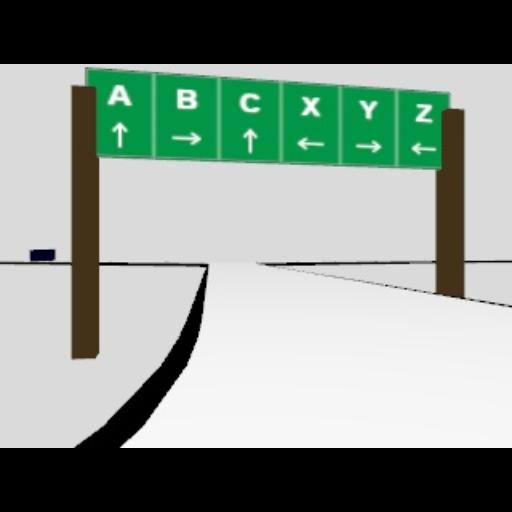A: (105, 83, 131, 105)
B: (176, 88, 196, 108)
C: (239, 91, 261, 113)
Left: (295, 136, 325, 150), (408, 142, 436, 156)
Right: (170, 131, 202, 145), (356, 140, 382, 152)
Straight: (110, 121, 128, 147), (242, 128, 258, 152)
X: (300, 94, 320, 116)
Y: (358, 100, 378, 118)
Z: (414, 102, 434, 124)
